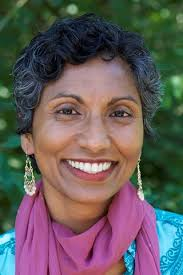indian_female: (30, 26, 149, 208)
